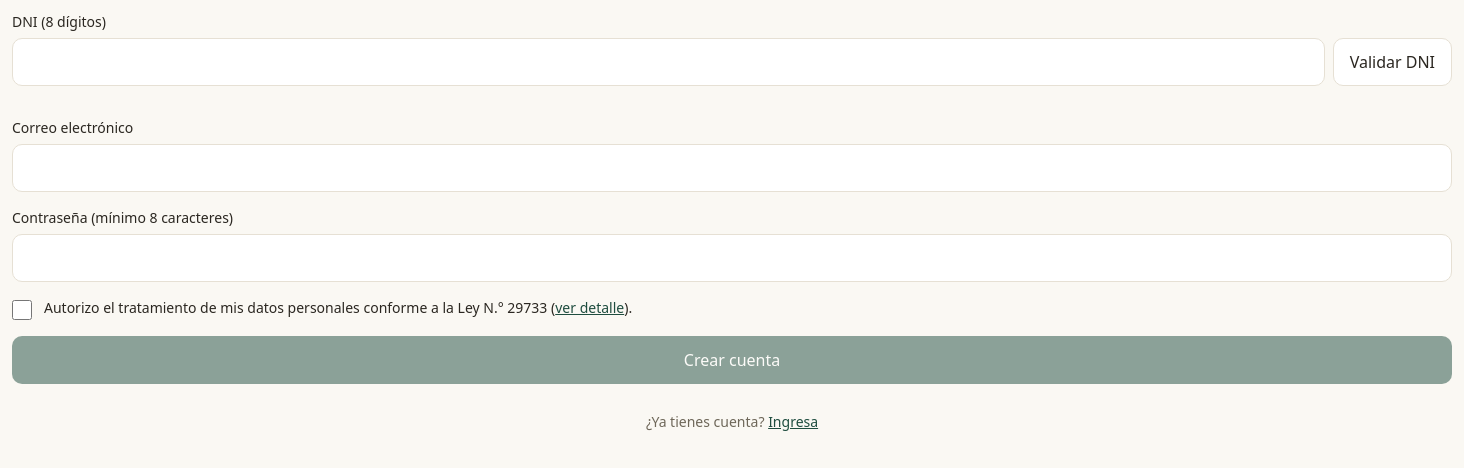
M2 · Registro de la dirigenta con RENIEC (ModalRegistro) › Prueba 2 (error): un DNI no vigente muestra el motivo y bloquea la creación de la cuenta
Type "0000000" into the field labelled "DNI (8 dígitos)" at (668, 62), box top-left (12, 38), bottom-right (1325, 86)
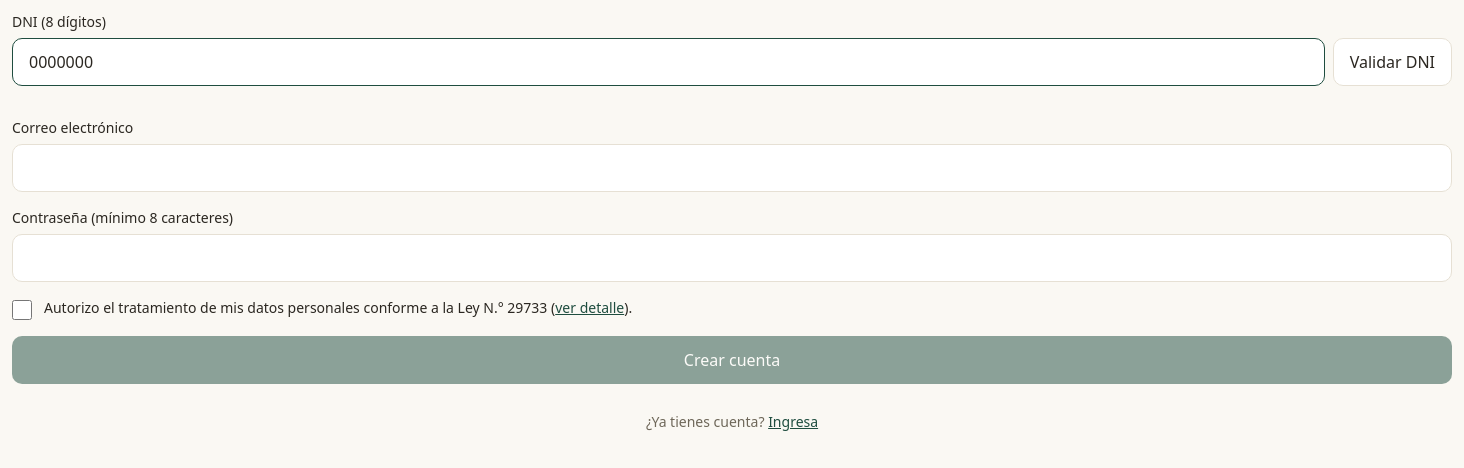
Note: Al completar el octavo dígito se consulta una sola vez y se muestra el motivo
Type "0" into the field labelled "DNI (8 dígitos)" at (668, 62), box top-left (12, 38), bottom-right (1325, 86)
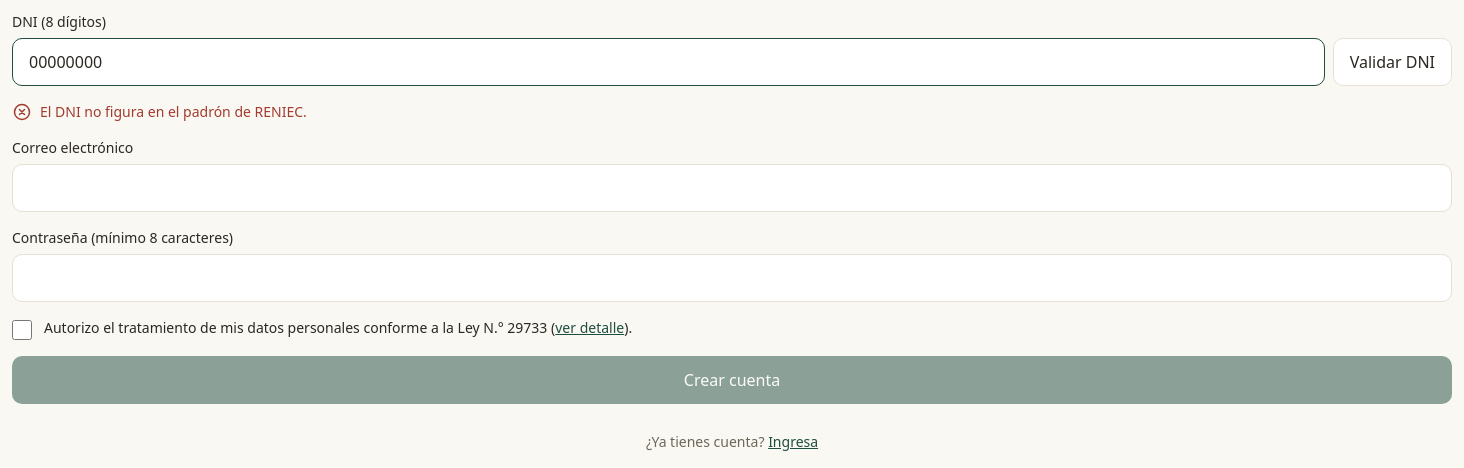
Expected: the button "Crear cuenta" is disabled, top-left (12, 356), bottom-right (1452, 404)
Now the text "El DNI no figura en el padrón de RENIEC." is shown, box top-left (12, 102), bottom-right (307, 122)
